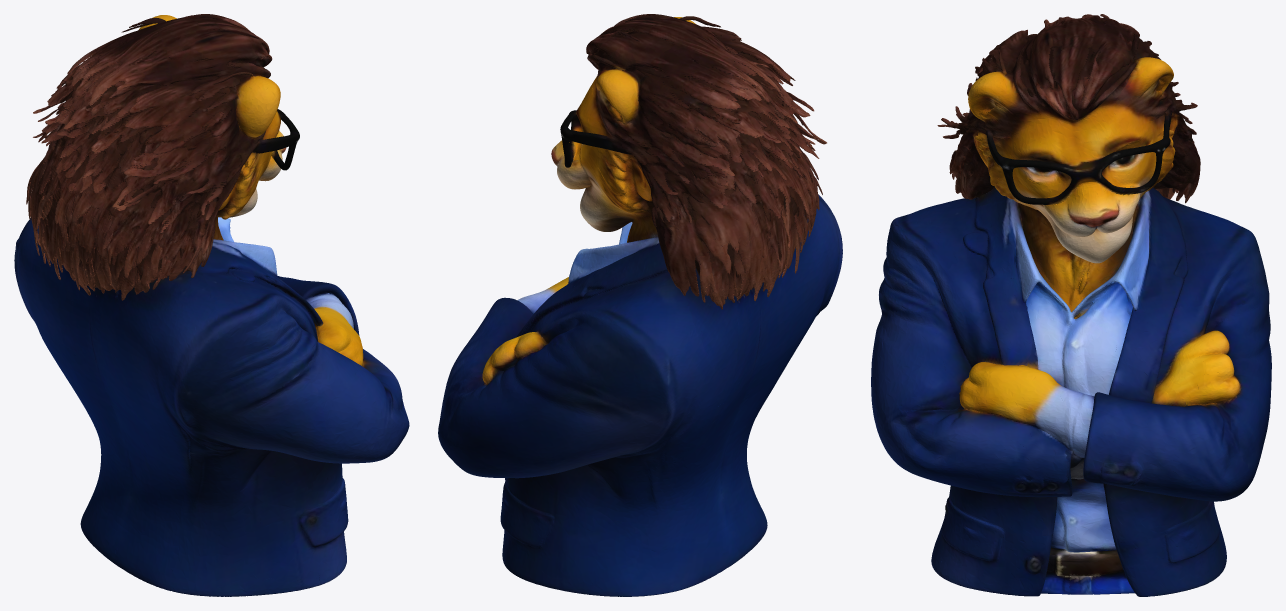
The model's file is julius-3d-opt.glb.
3 renders of one model, left to right at view 1: azimuth 30°, elevation 25°; view 2: azimuth 150°, elevation 25°; view 3: azimuth 270°, elevation 25°, orthographic. The views are drawn at different scales.
Parts seen in each view (by area): view 1: tripo_node_e2e19647-bb9a-4bd9-b2a0-2c95e2f30f70; view 2: tripo_node_e2e19647-bb9a-4bd9-b2a0-2c95e2f30f70; view 3: tripo_node_e2e19647-bb9a-4bd9-b2a0-2c95e2f30f70.
Part boxes in pixels (box(x1,y1,x2,y2)): tripo_node_e2e19647-bb9a-4bd9-b2a0-2c95e2f30f70: box(14, 14, 409, 596); tripo_node_e2e19647-bb9a-4bd9-b2a0-2c95e2f30f70: box(438, 14, 842, 596); tripo_node_e2e19647-bb9a-4bd9-b2a0-2c95e2f30f70: box(871, 14, 1271, 596).
Bounding box in the file's own units: 0.6389 × 0.9999 × 0.7157.
1 material, 1 textured.
